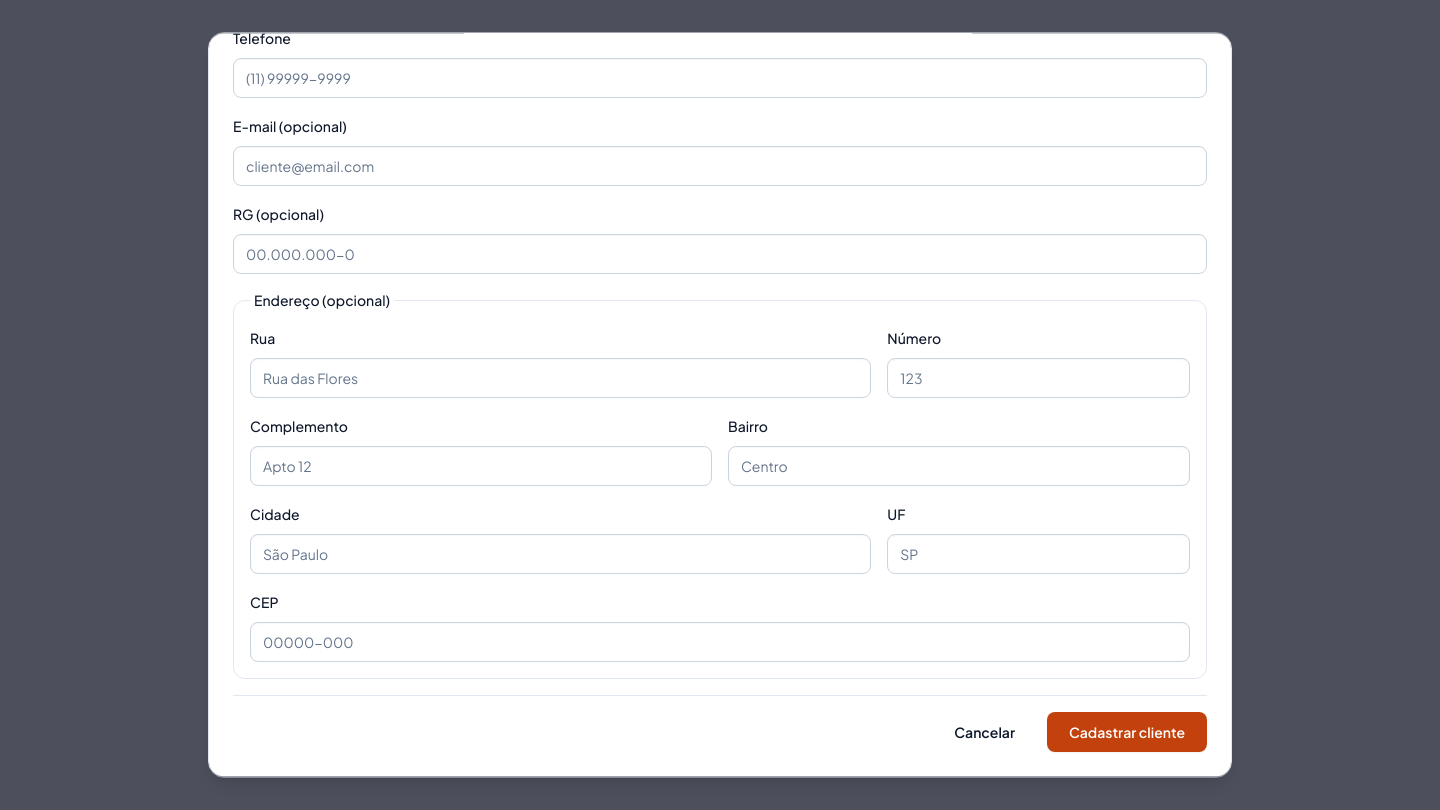
CustomerFormModal › shows validation errors when submitted empty in create mode
(page scrolled)
Click the button "Cadastrar cliente" at (1127, 732), box [1047,712,1207,752]
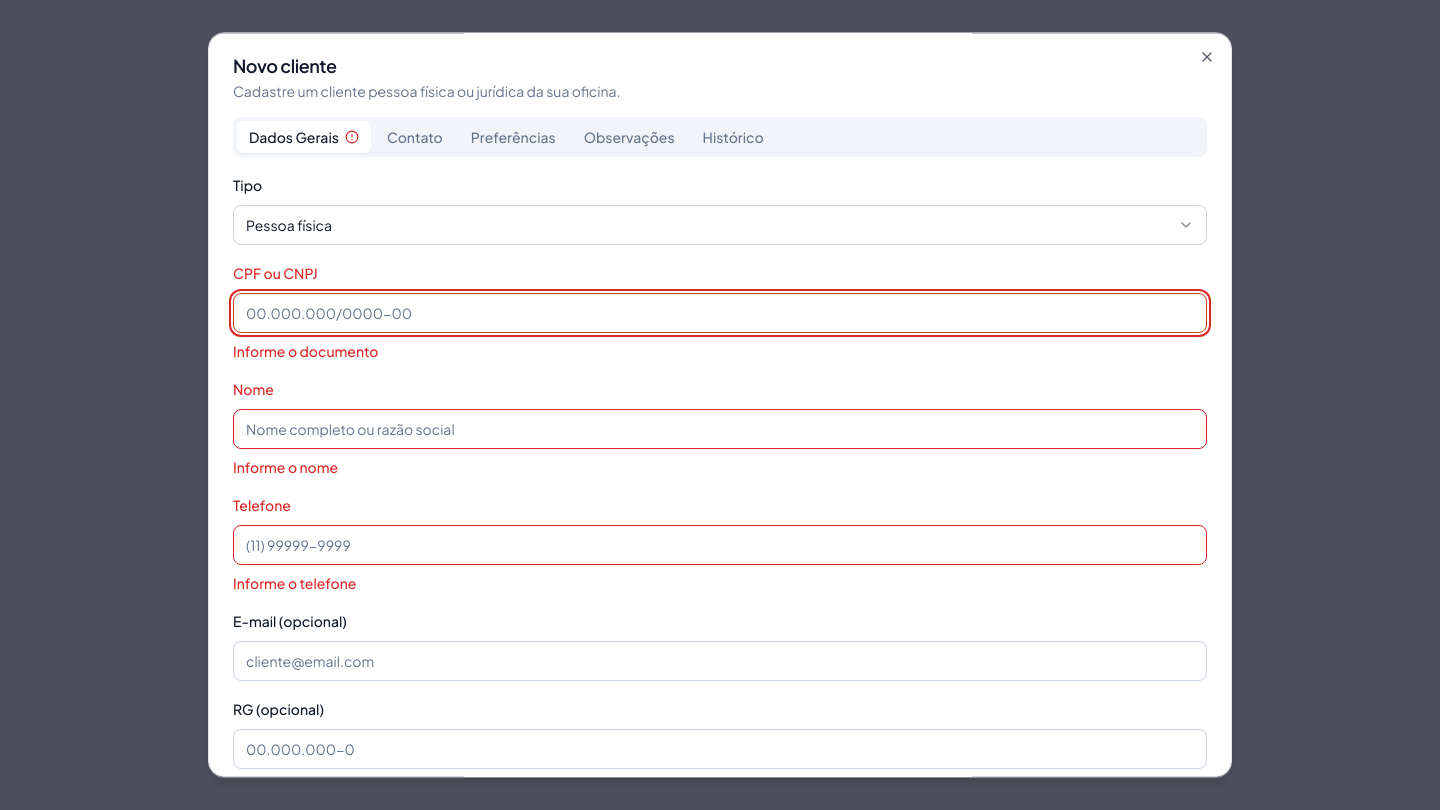
Check: the text "Informe o documento" is shown, box [233,342,378,360]
